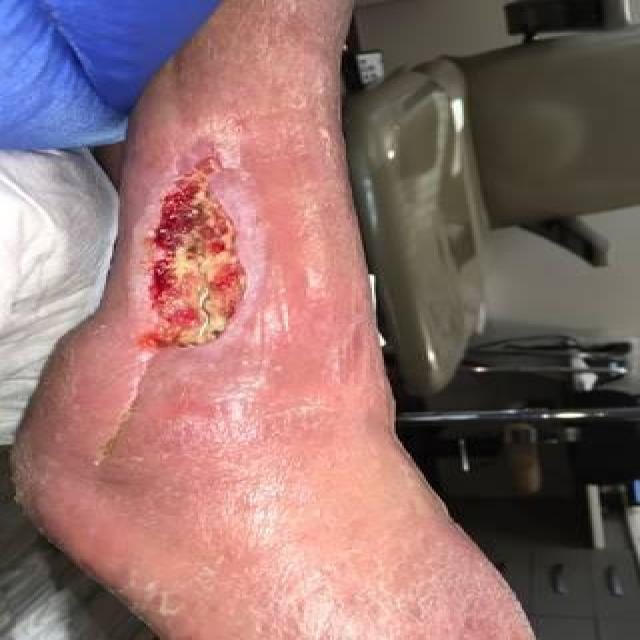stage-4: (147, 159, 244, 346)
